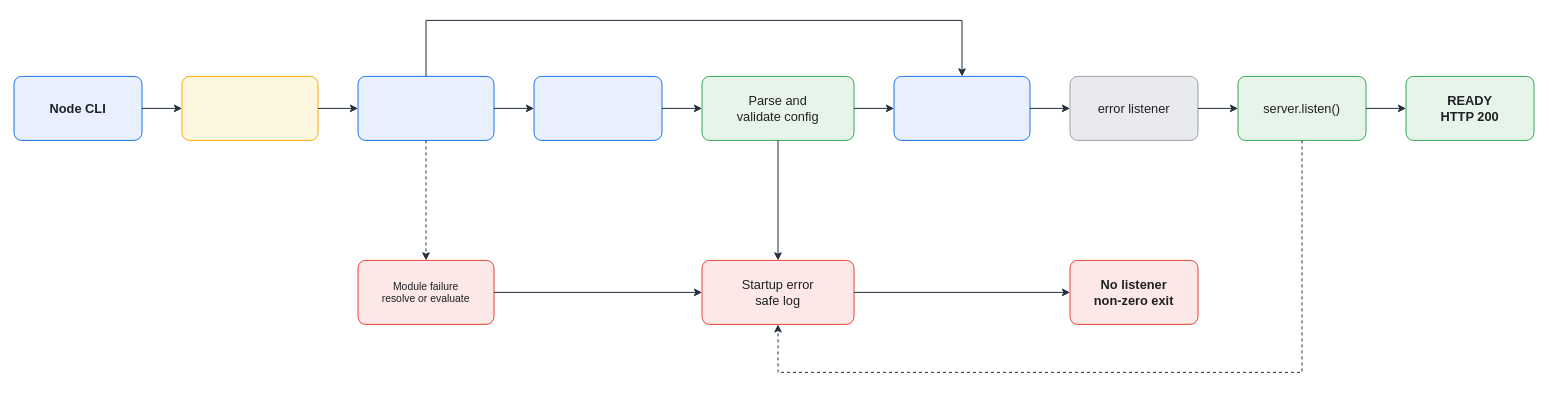
The diagram is 1549 pixels wide and 394 high, and some of its shapes have lost their labels. The centre of each missing label's shape, as x and y in pixels:
config.mjs: the point at 597,108
Environment --env-file: the point at 249,108
main.mjs Bootstrap: the point at 425,108
server.mjs createServer: the point at 961,108
